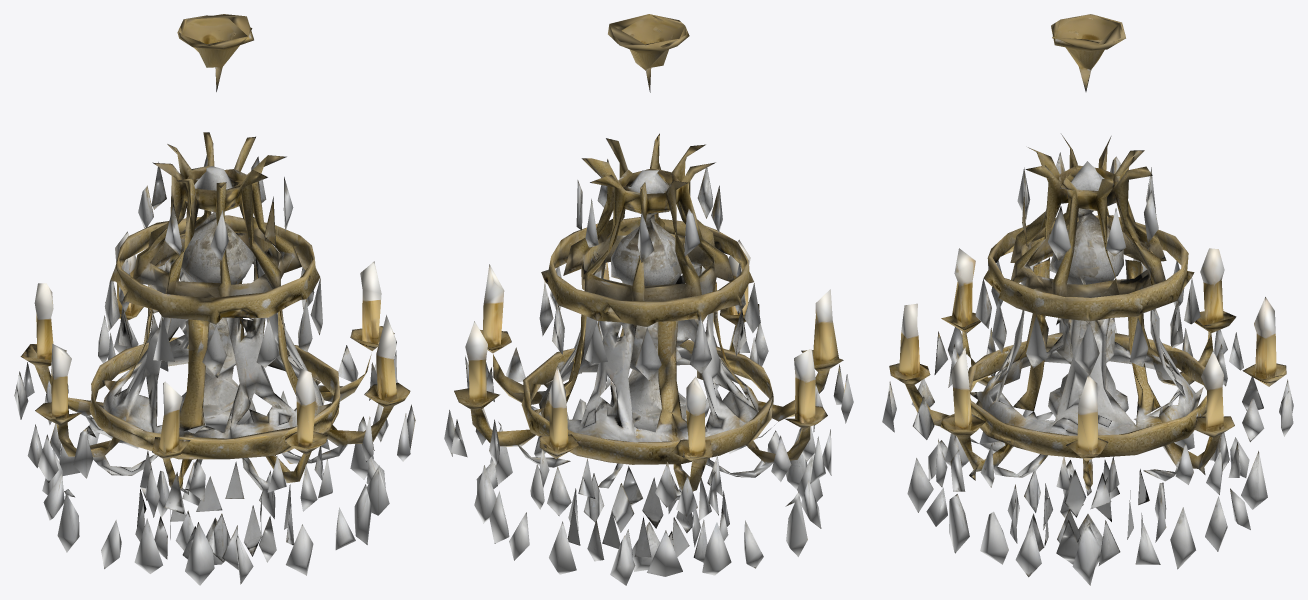
Rendered from Meshy_AI_Ornate_Crystal_Chande_0403034807_texture.fbx.
3 renders of one model, left to right at view 1: azimuth 30°, elevation 25°; view 2: azimuth 150°, elevation 25°; view 3: azimuth 270°, elevation 25°, orthographic.
Visible parts, largest first — view 1: Mesh_0; view 2: Mesh_0; view 3: Mesh_0.
Part boxes in pixels (x1,y1,x2,y2): Mesh_0: (14,14,415,585); Mesh_0: (444,14,853,585); Mesh_0: (882,14,1293,585).
Size of the model in its own units: 139 by 200 by 140.
1 material, 1 textured.
